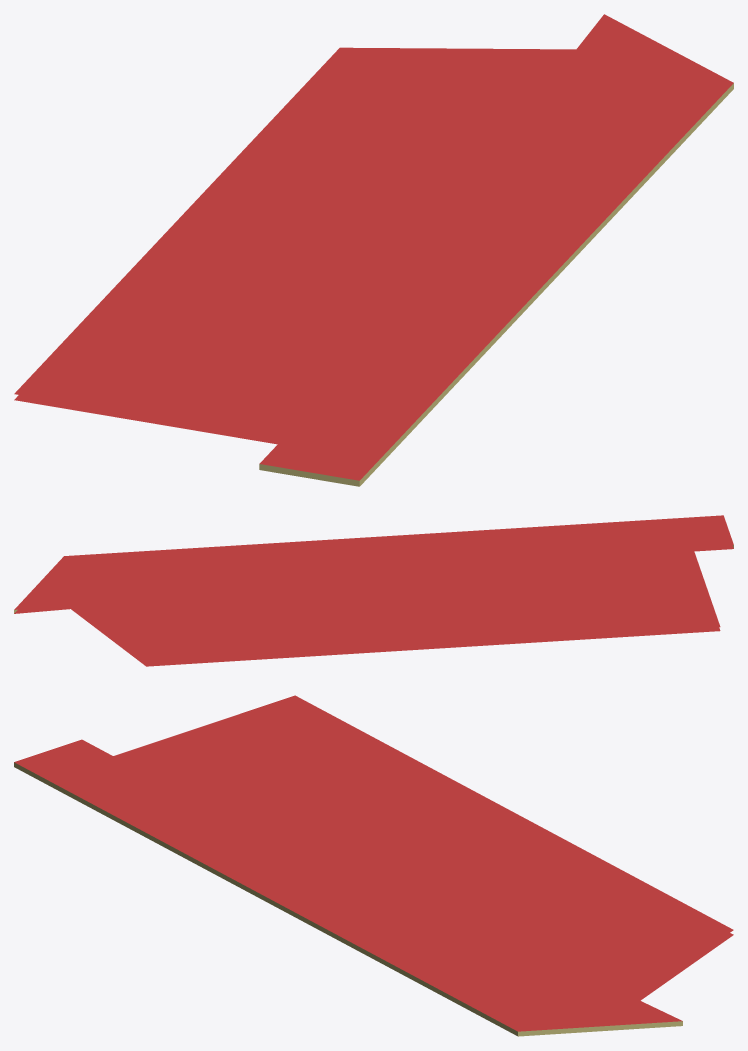
3 views of the same model, one above another, from view 1: azimuth 30°, elevation 25°; view 2: azimuth 150°, elevation 25°; view 3: azimuth 270°, elevation 25° (orthographic). The views are drawn at different scales.
Visible parts, largest first — view 1: group_3, group_4, group_5; view 2: group_3, group_5; view 3: group_3, group_4.
Part boxes in pixels (x1=…): group_3: x1=14, y1=14, x2=733, y2=480; group_4: x1=259, y1=83, x2=733, y2=486; group_5: x1=14, y1=395, x2=282, y2=444; group_3: x1=14, y1=515, x2=733, y2=662; group_5: x1=14, y1=545, x2=733, y2=666; group_3: x1=14, y1=695, x2=733, y2=1031; group_4: x1=14, y1=762, x2=682, y2=1036.
Bounding box in the file's own units: 14.81 × 13.4 × 0.1.
